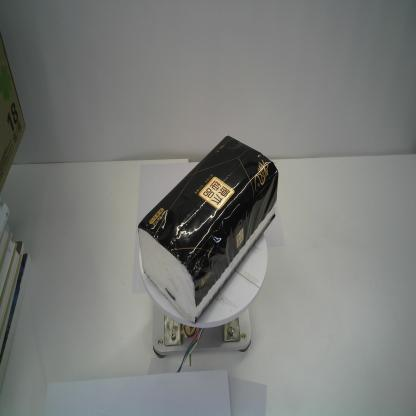Tissue: (136, 134, 279, 326)
